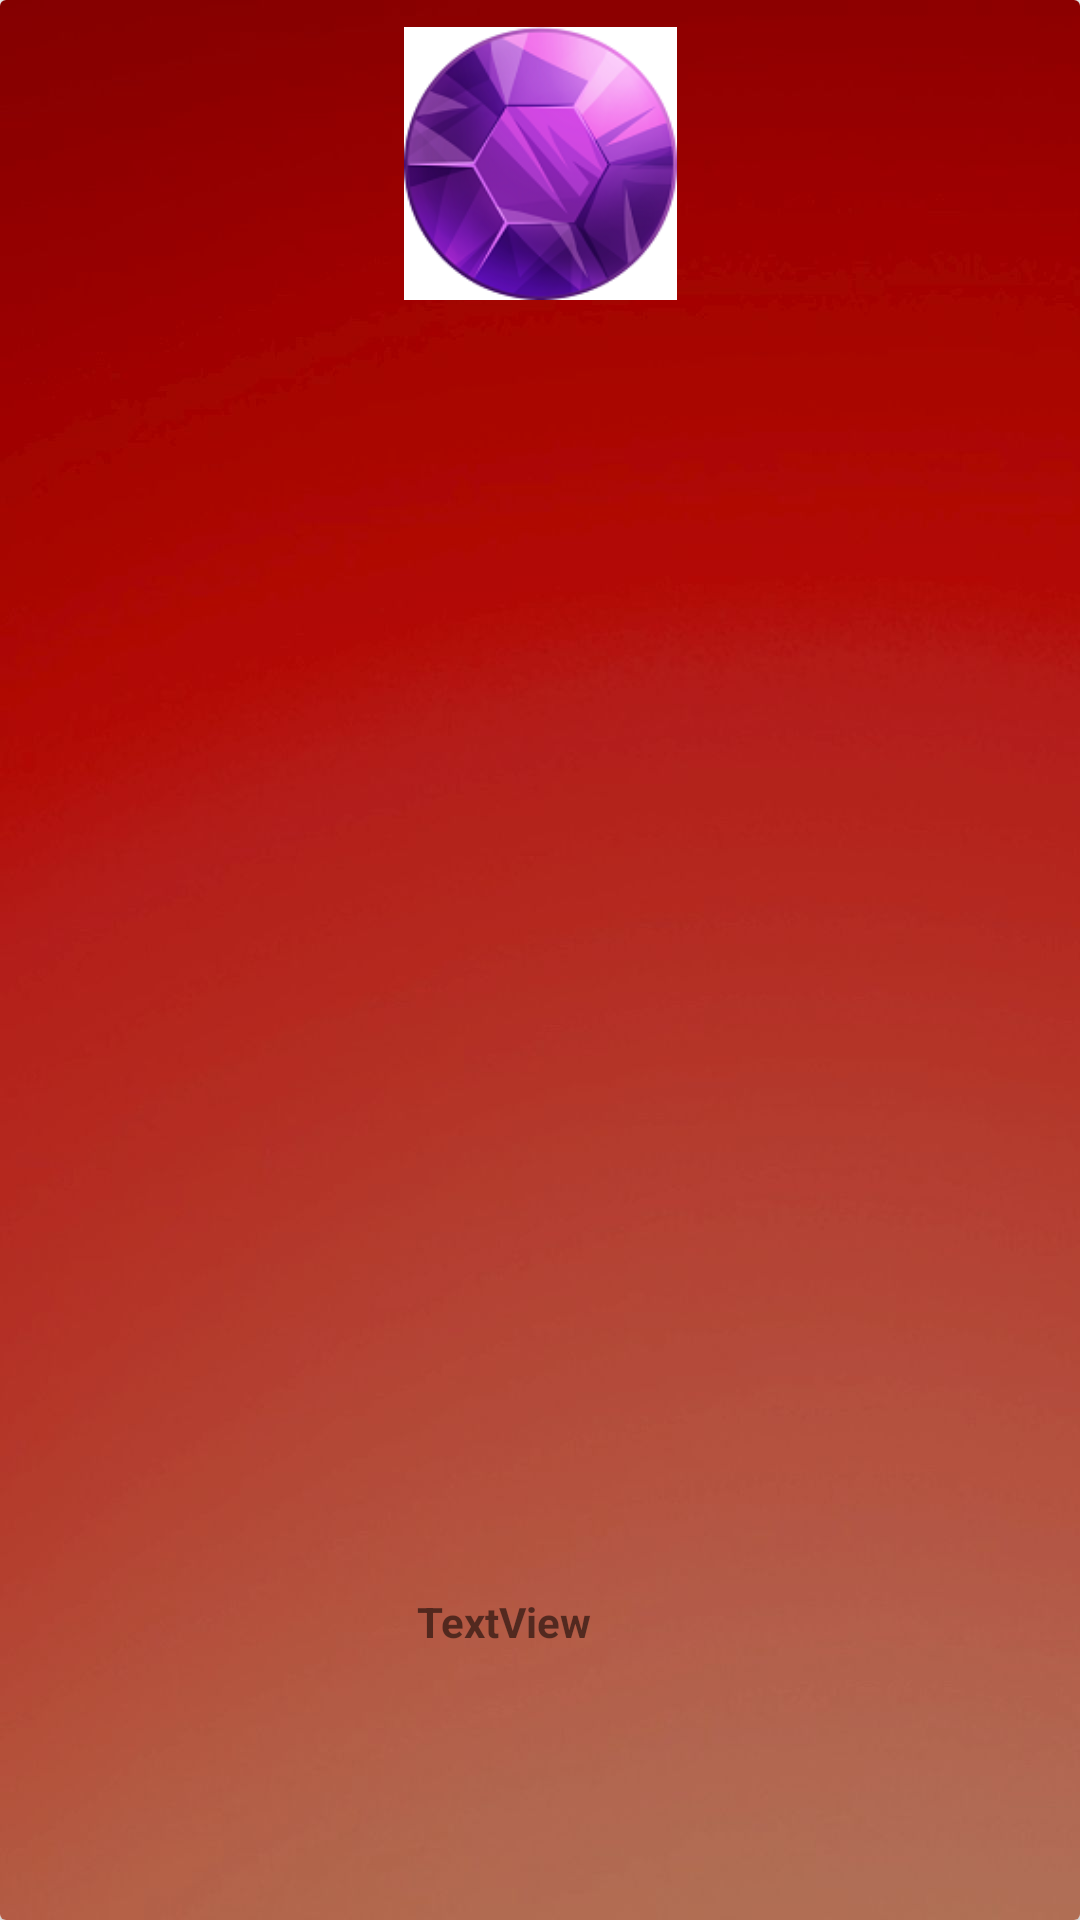

Locate icon controls on the screen. Image size 1080 x 1920, boxes as (x1, y1, x2, y2).
gemstone: (404, 27, 677, 300)
